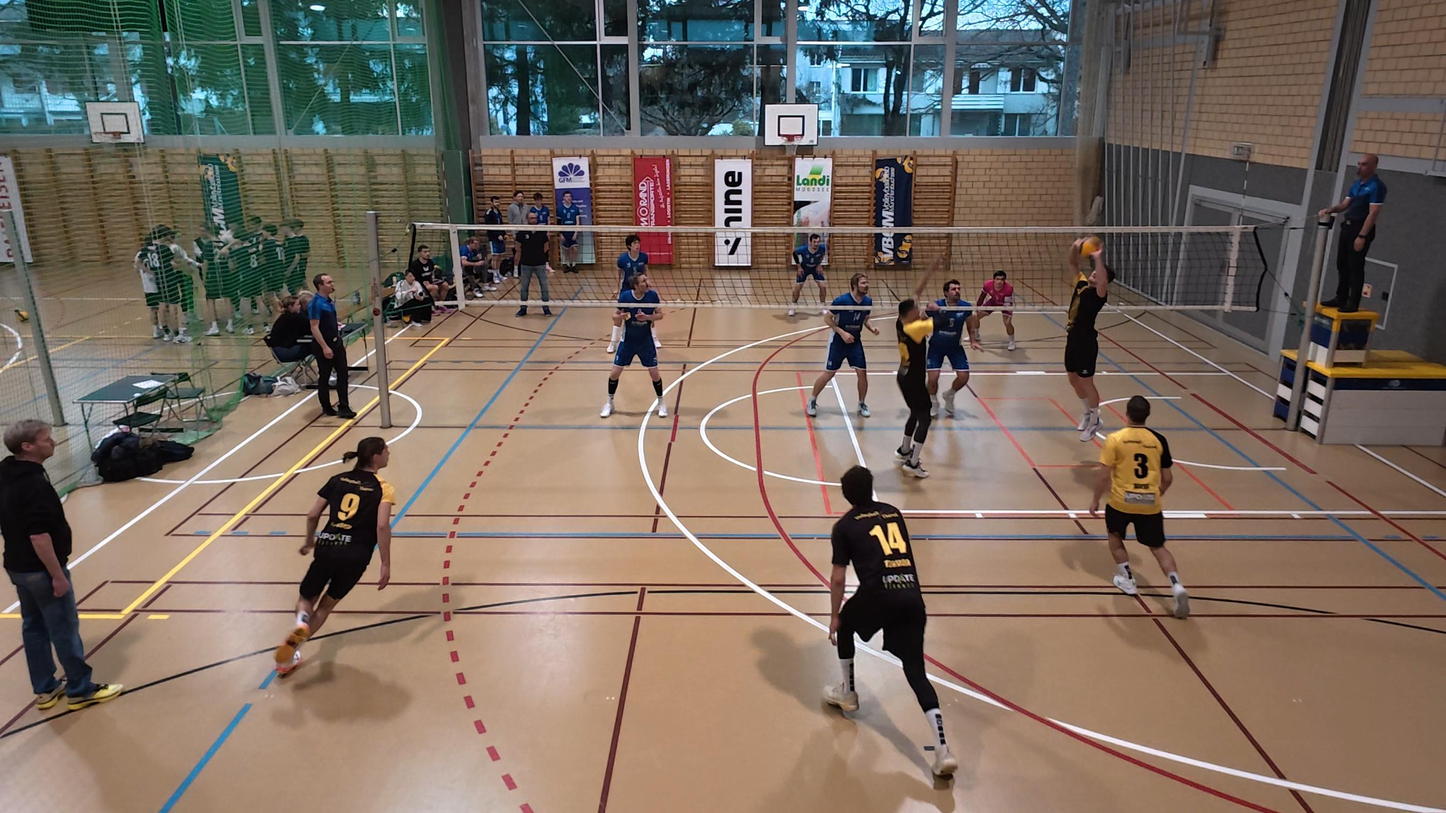alzata: (1060, 242, 1114, 445)
